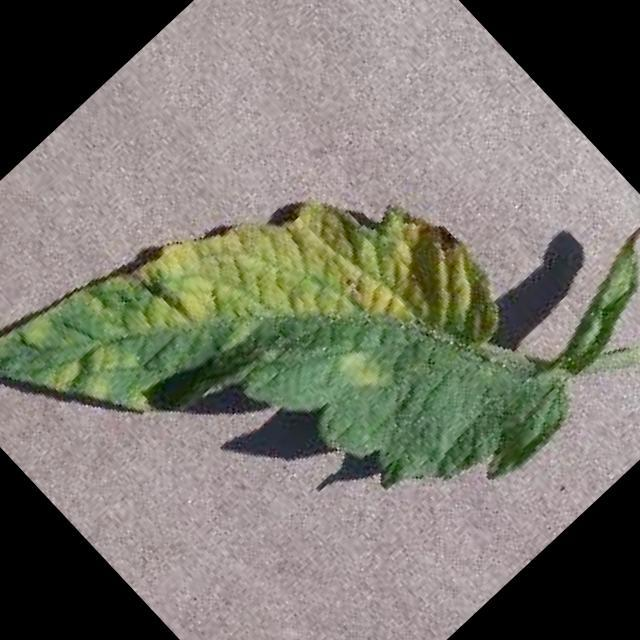Tomato mold leaf: (0, 50, 600, 640)
